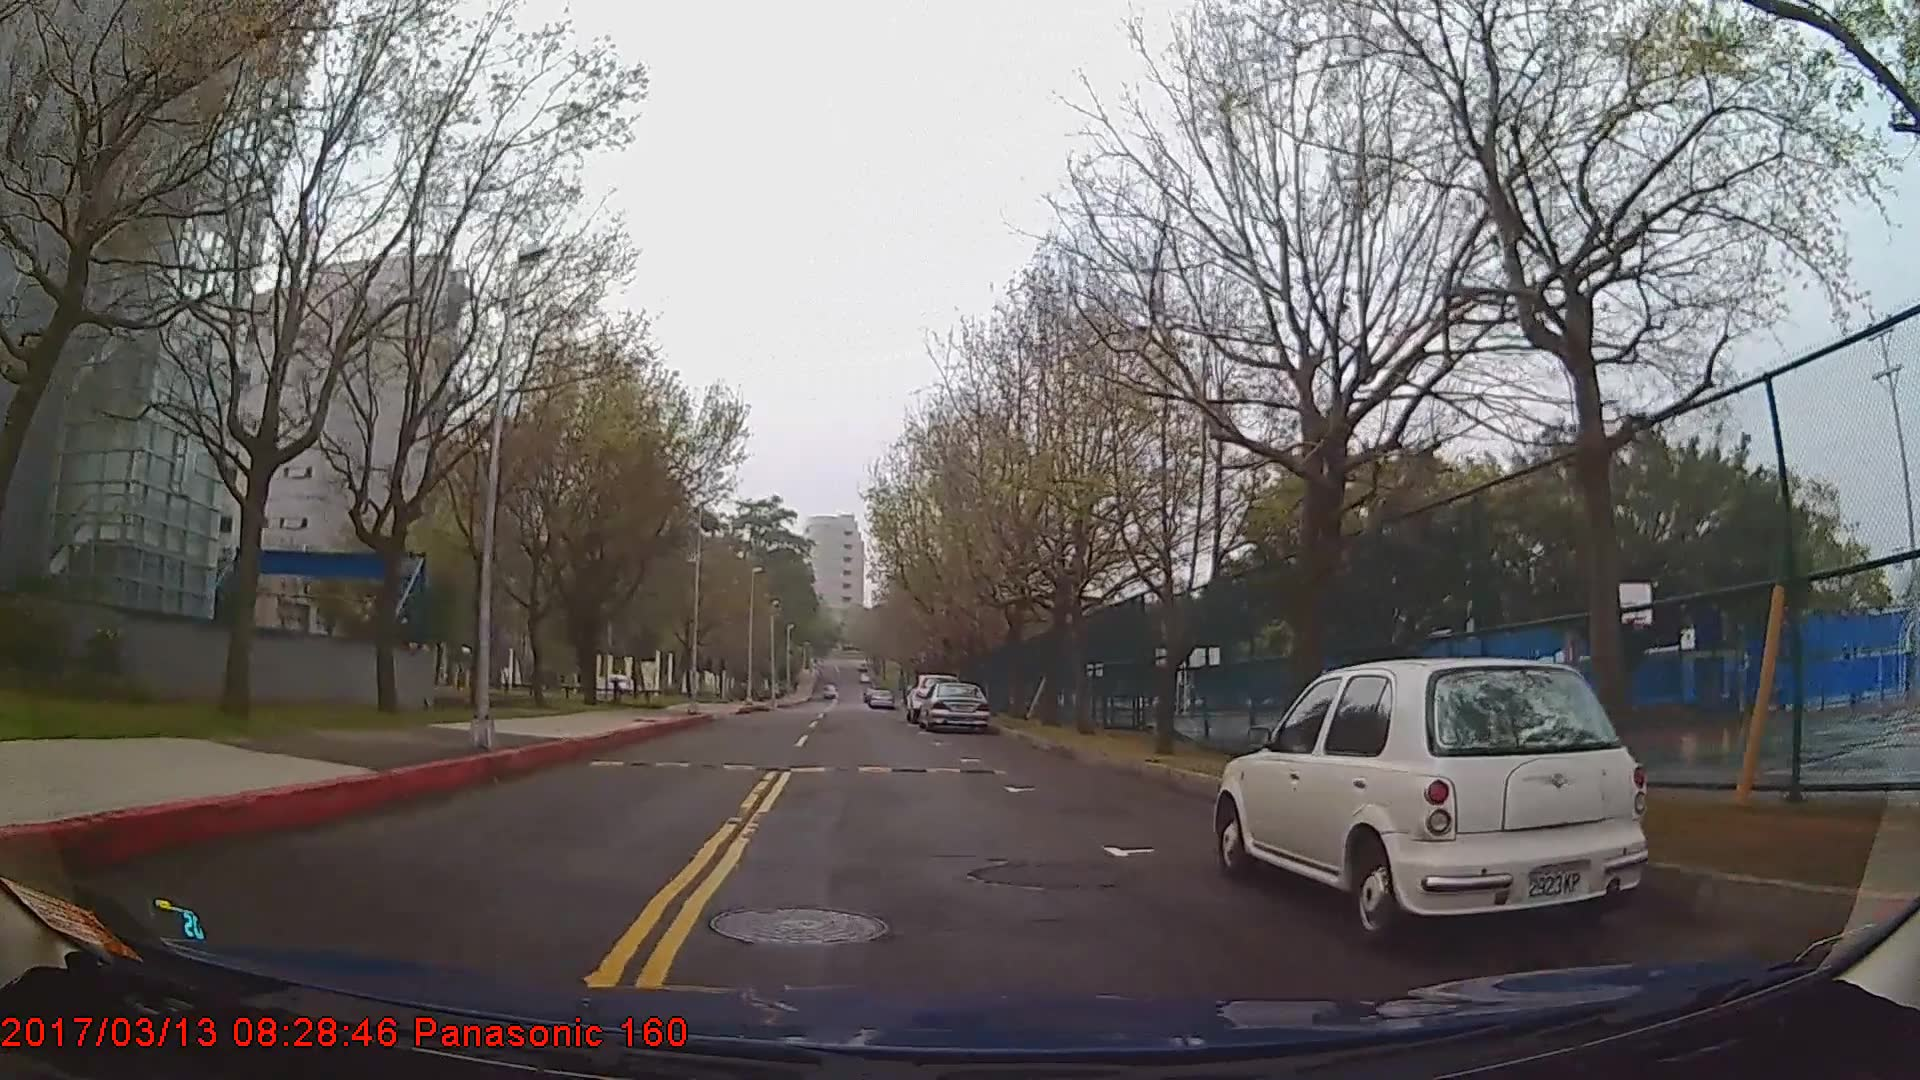vehicle: (1215, 654, 1654, 945), (919, 678, 993, 731)
